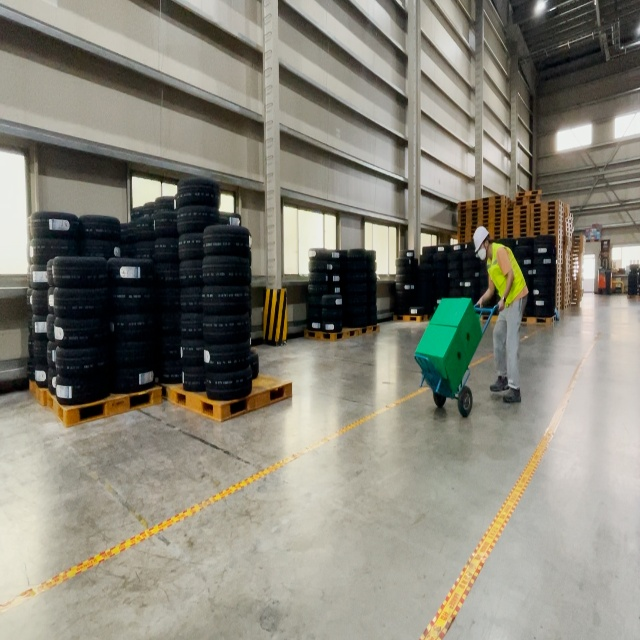Box: (415, 322, 469, 397), (428, 297, 484, 368)
Worker: (473, 225, 529, 405)
